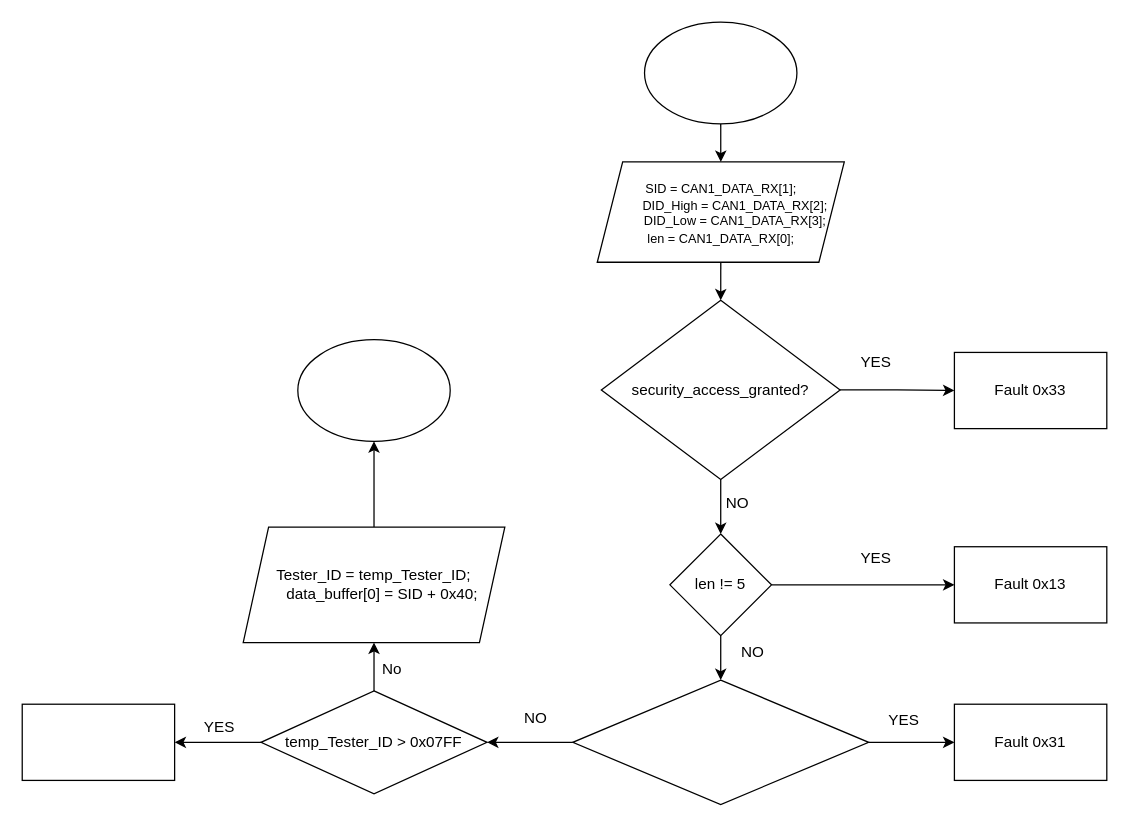
Some shapes in this 1129 by 827 pixel diagram are drawn without their labels. Here are the shapes that lost their labels. From the top down, the centre of each, then its label:
pixel 720 72: BEGIN
pixel 373 389: FINISH
pixel 98 741: Fault 0x10
pixel 720 742: DID_High != 0x01 || DID_Low != 0x23
